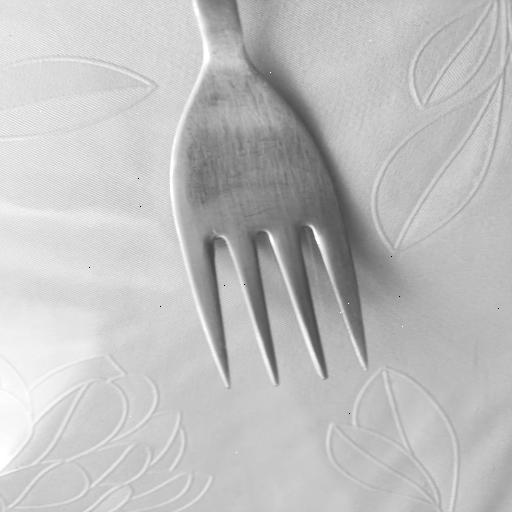fork: (170, 0, 374, 392)
